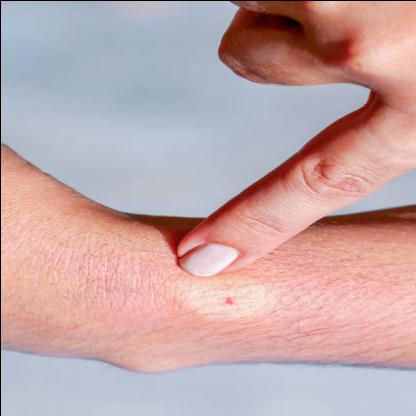Wasp: (160, 274, 284, 330)
